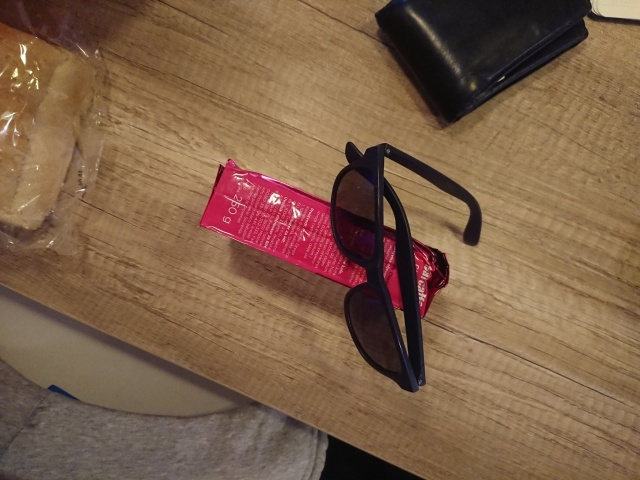Barcaffe Classic Original 225g: (196, 157, 452, 323)
